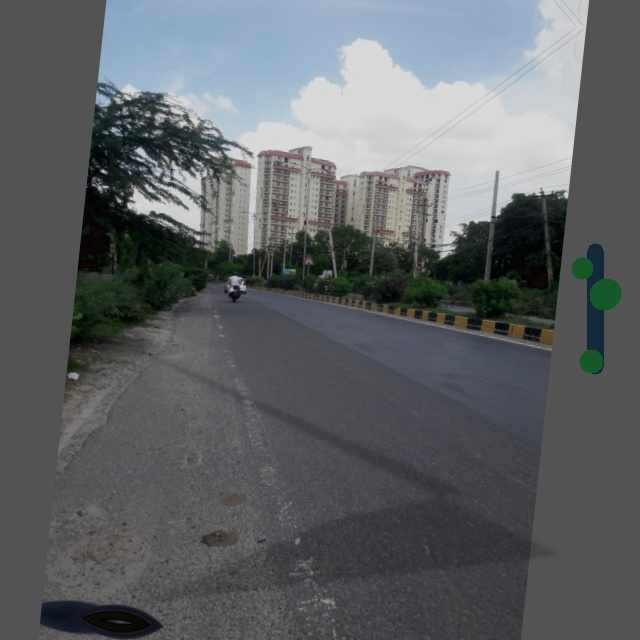Gap_in_Median: (300, 251, 316, 267)
